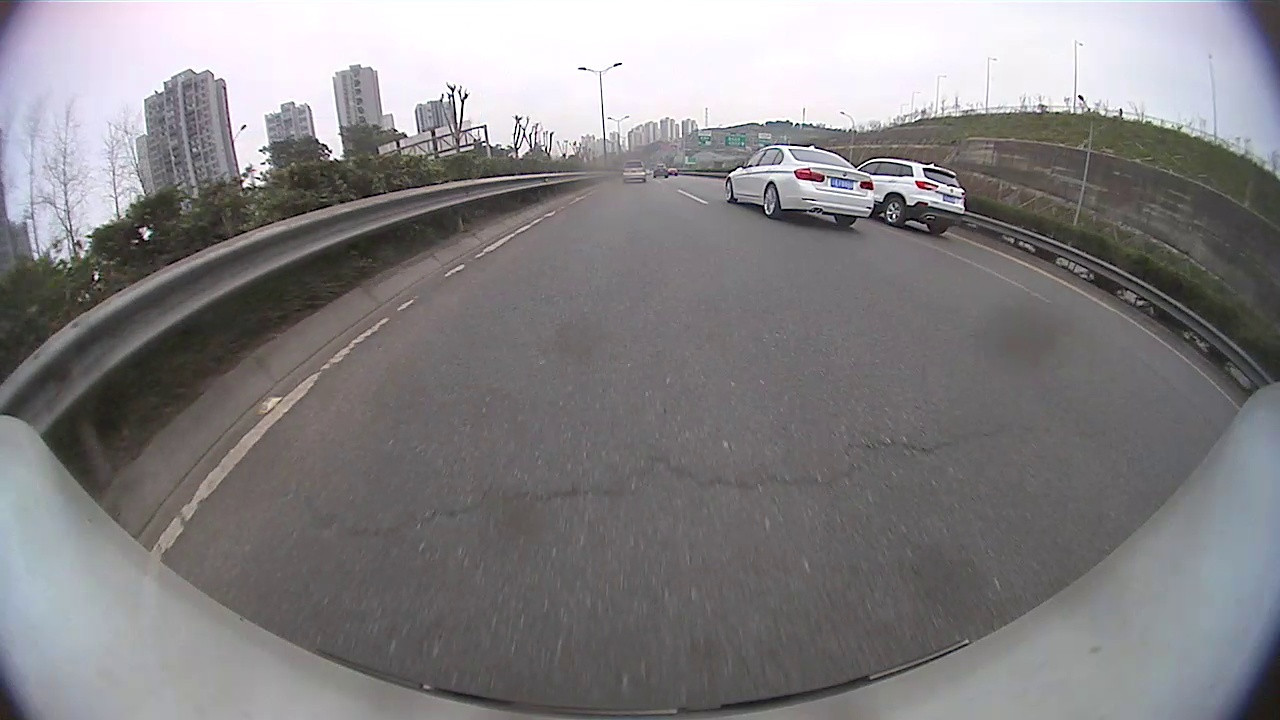car: (723, 142, 873, 228), (857, 156, 967, 235), (621, 158, 648, 183)
front: (723, 181, 735, 202)
rear: (883, 199, 906, 227), (761, 185, 780, 218)
